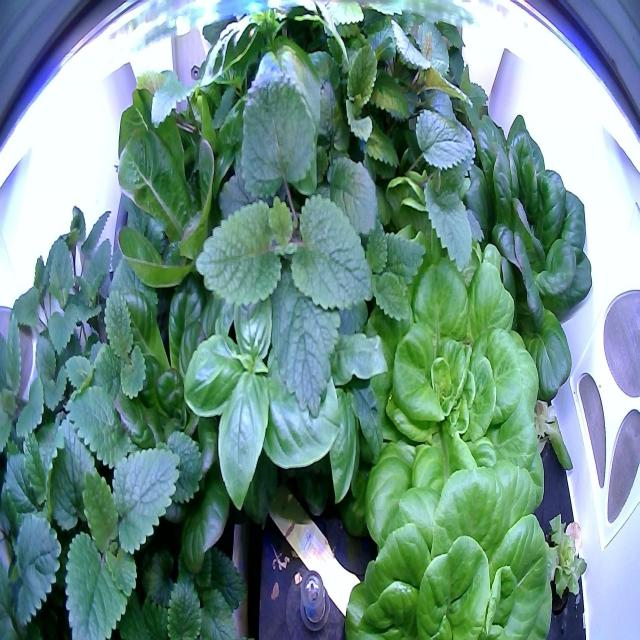Ready: (329, 233, 564, 525), (342, 430, 576, 638), (450, 98, 600, 406), (105, 83, 237, 345)
